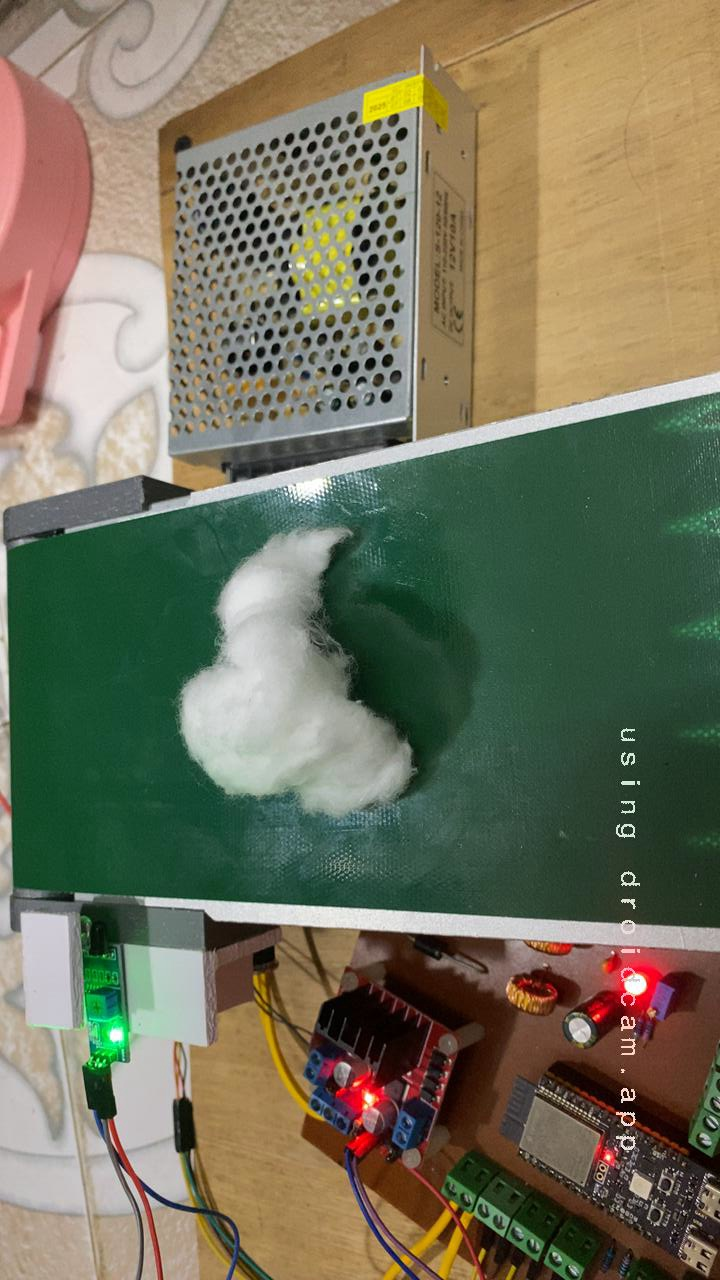cotton: (139, 508, 442, 846)
